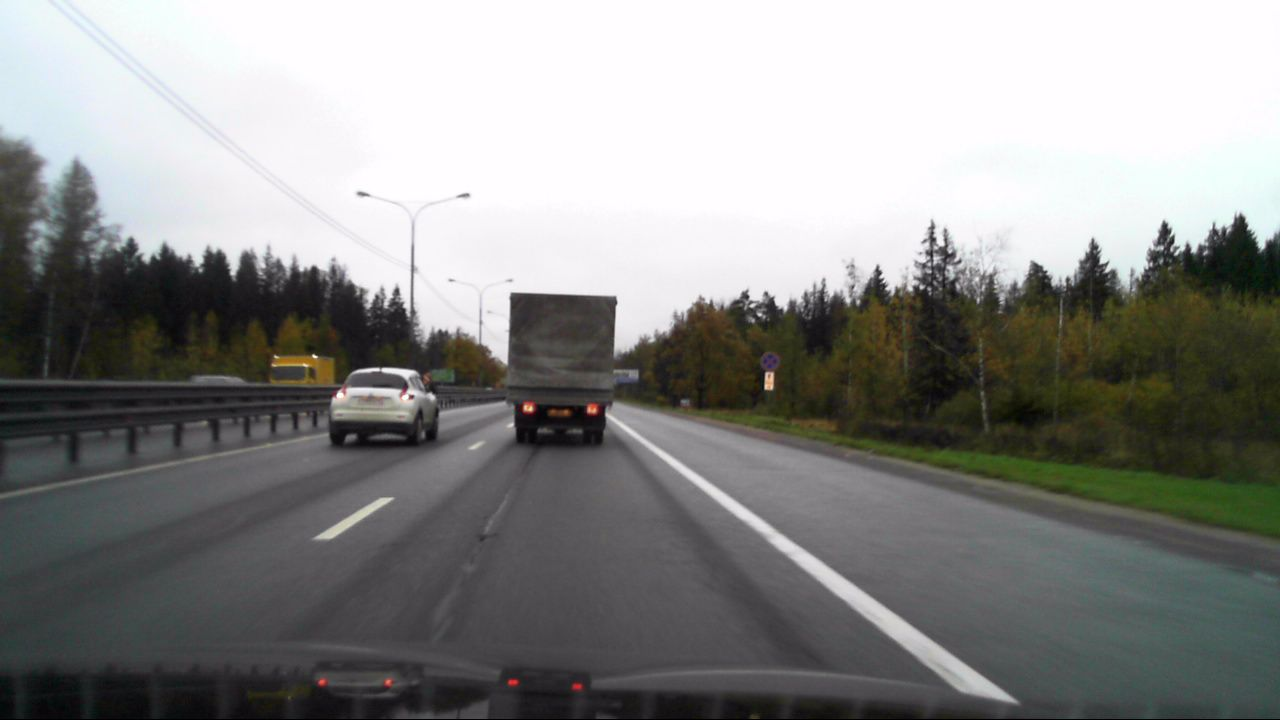No Parking: (760, 350, 779, 371)
